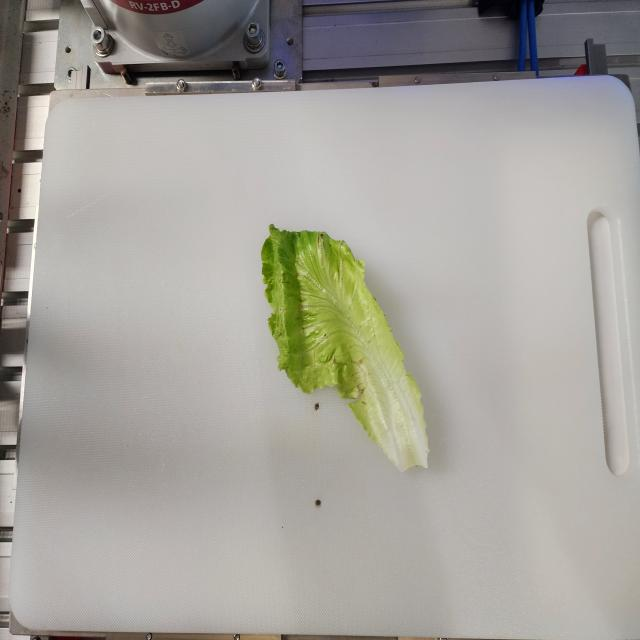lettuce: (260, 222, 430, 473)
